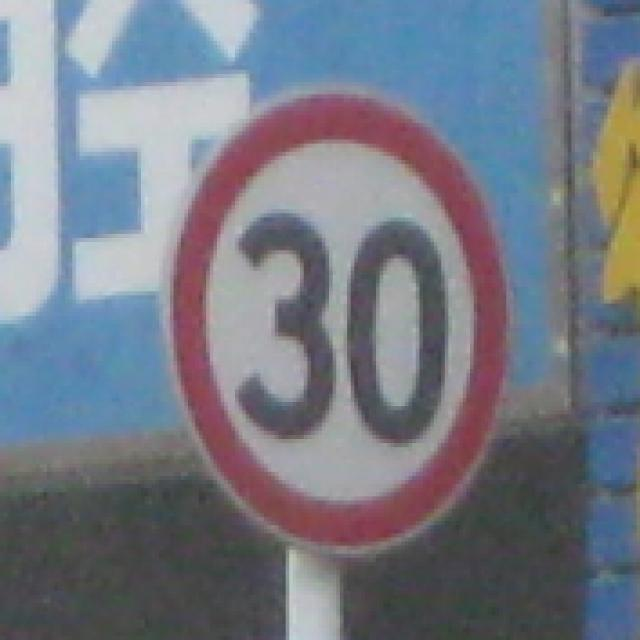Speed: (166, 81, 574, 575)
